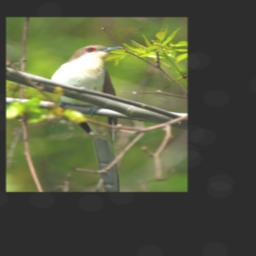Cuckoo: (47, 44, 126, 192)
